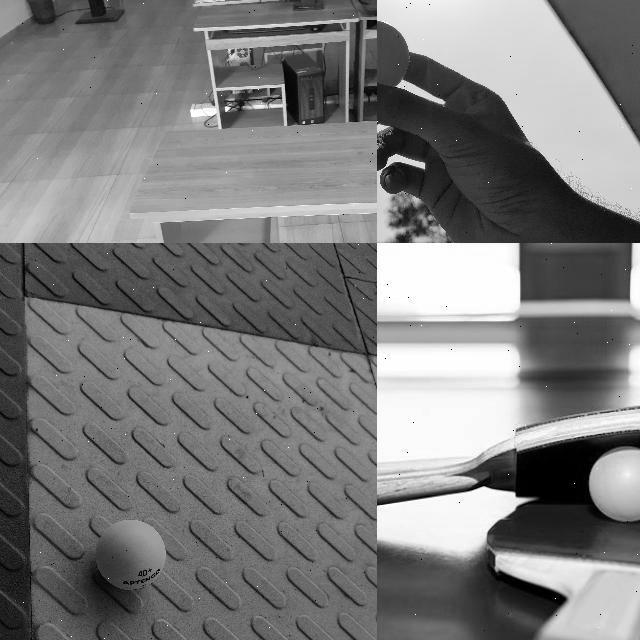ping-pong-ball: (96, 518, 166, 590), (588, 446, 639, 523), (377, 19, 409, 92)
